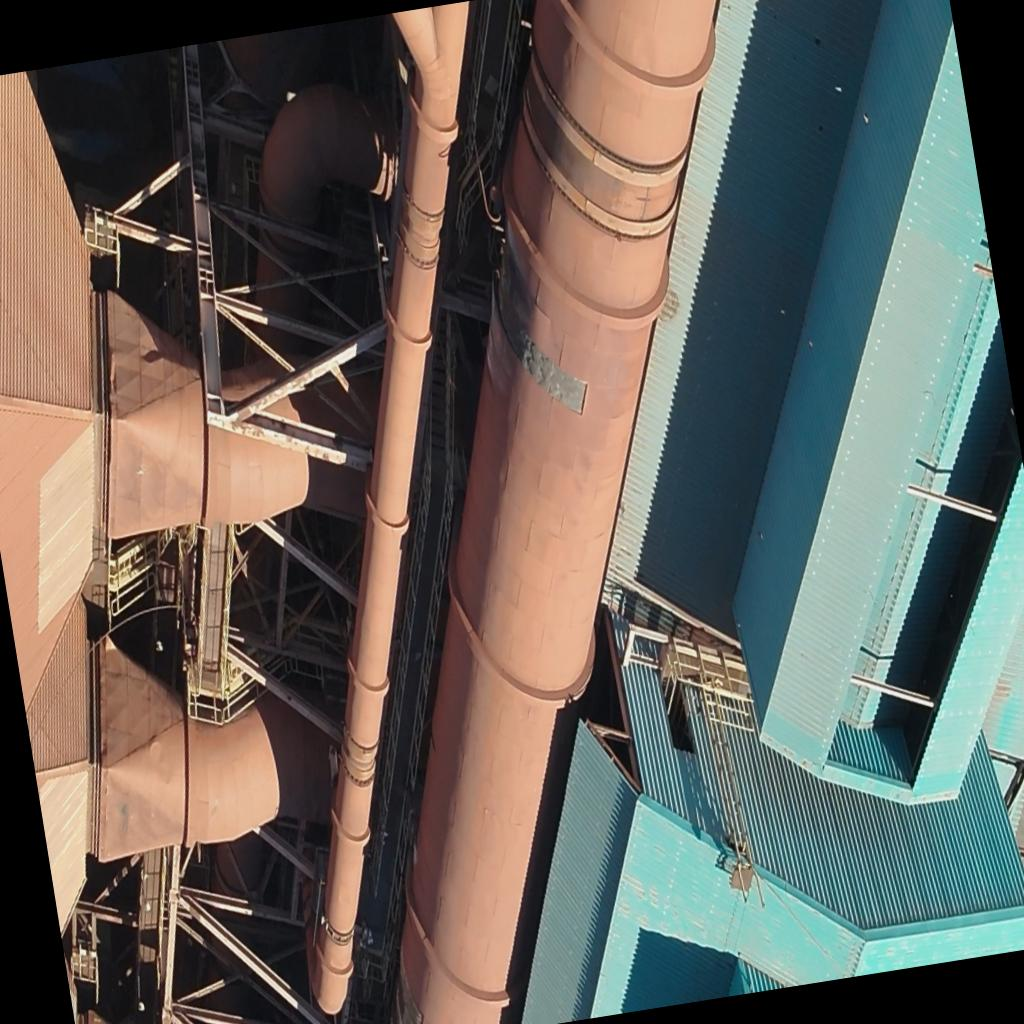Failures: (486, 286, 593, 446)
